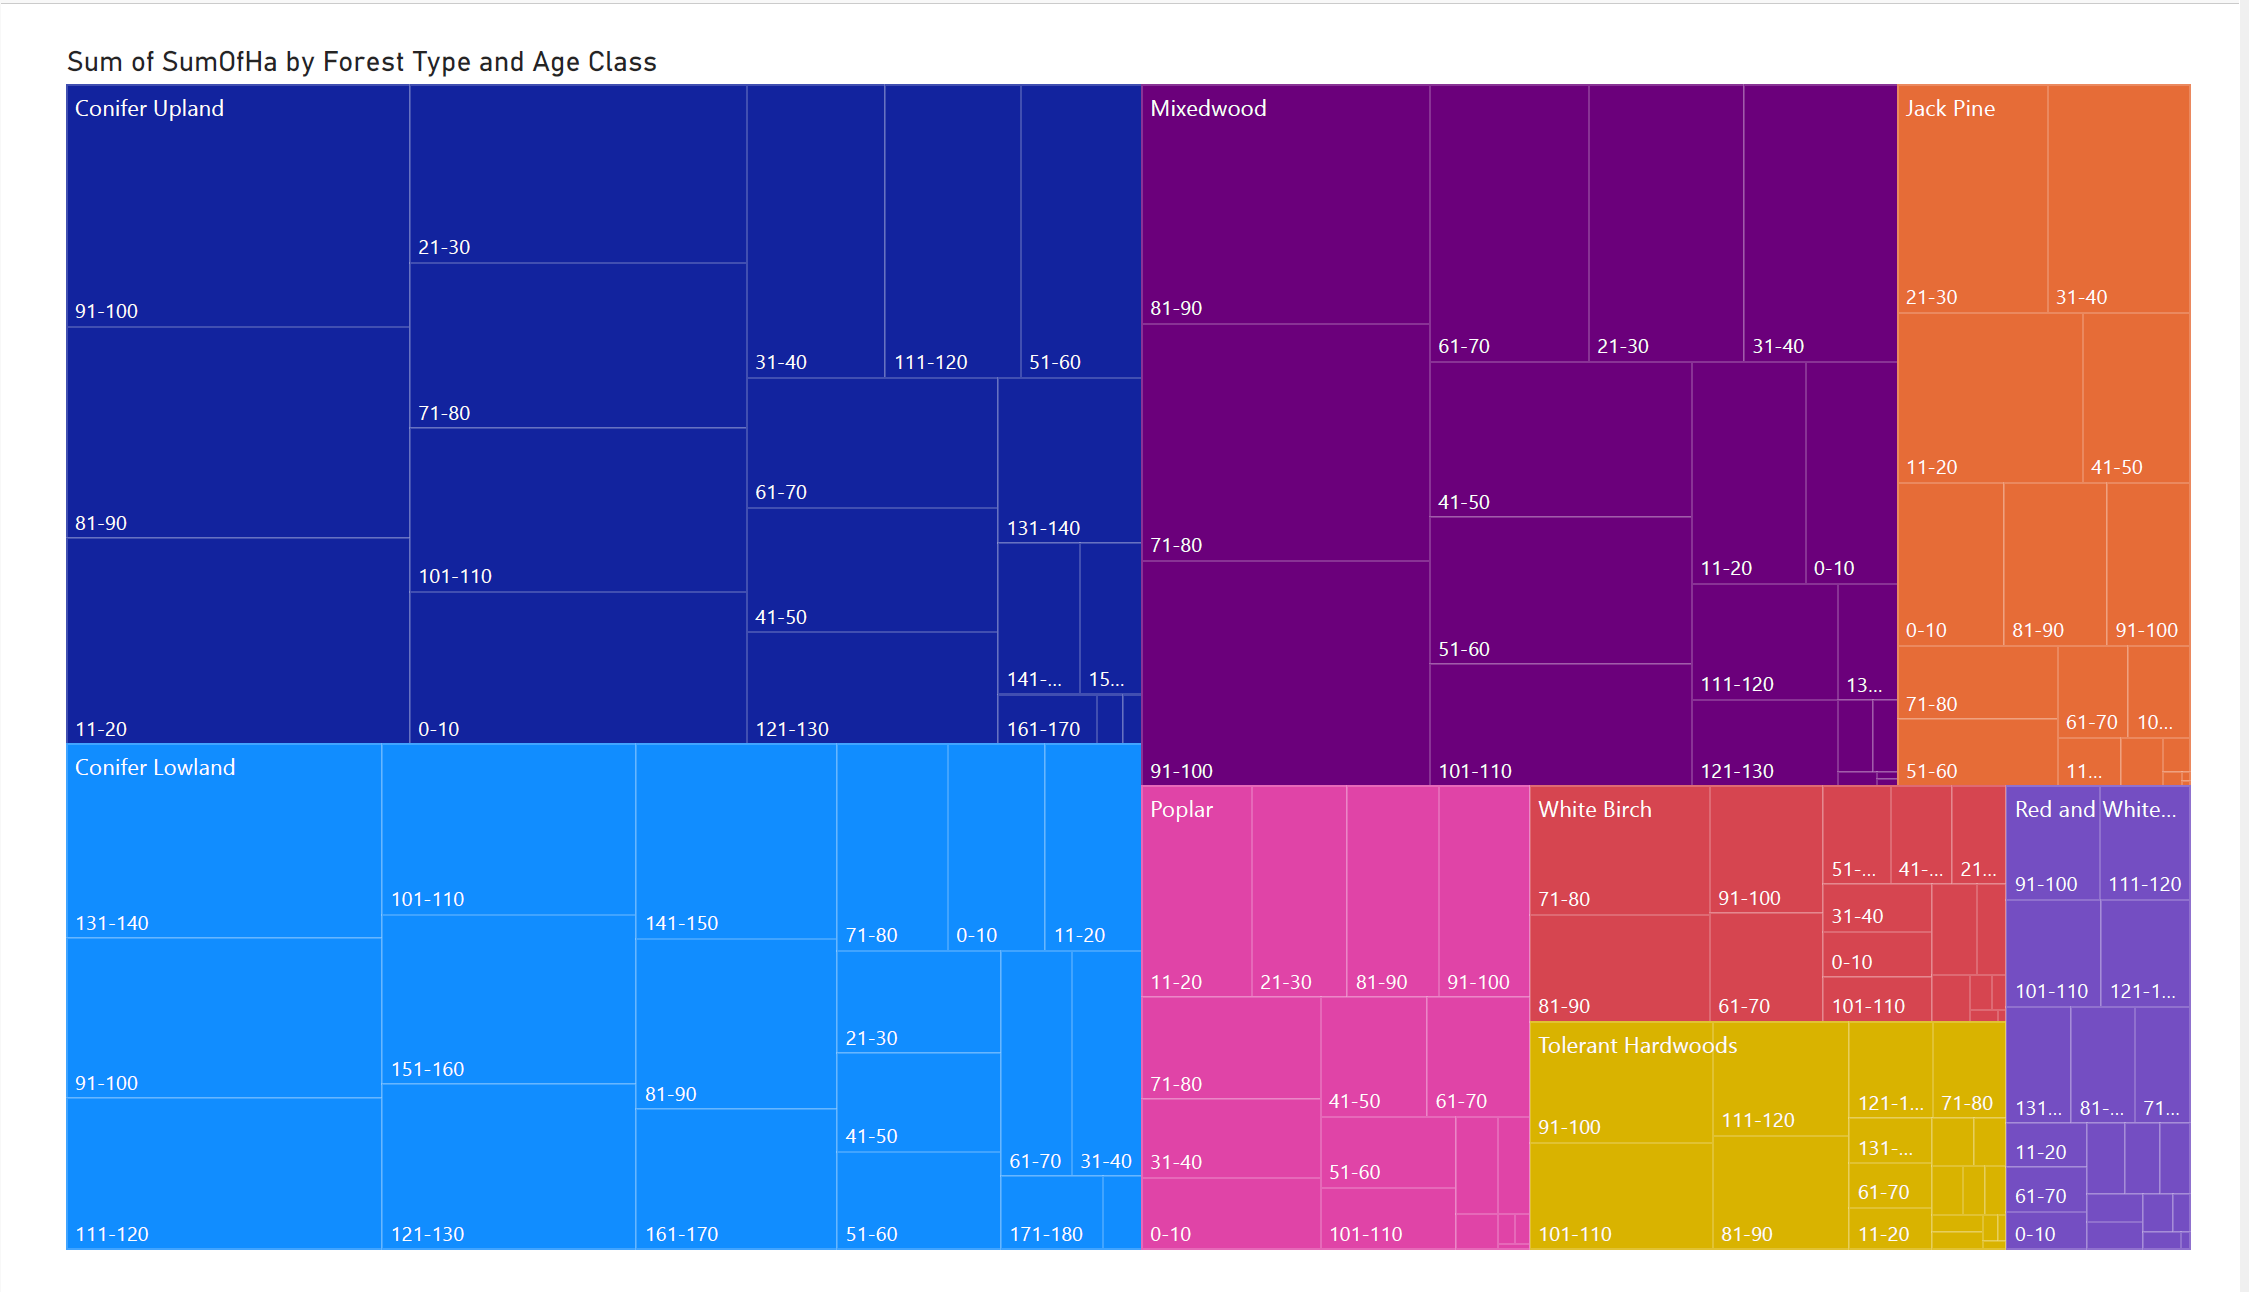

What the dashboard file says about the page in this screenshot:
{"tool":"powerbi","page":{"name":"Page 1","canvas":[1280,720],"ordinal":0},"visuals":[{"type":"treemap","fields":{"Group":["historical.Forest Type"],"Values":["Sum(historical.SumOfHa)"],"Details":["historical.Age Class"]},"box":[10,0,1270,720.4],"z":0}]}

Visuals, with their boxes in screenshot pixels (x1, y1, x2, y2), scaled from the page's 1280x720 canvas onto the 2249x1292 screenshot:
treemap - historical.Forest Type x Sum(historical.SumOfHa): <region>18, 0, 2248, 1291</region>
